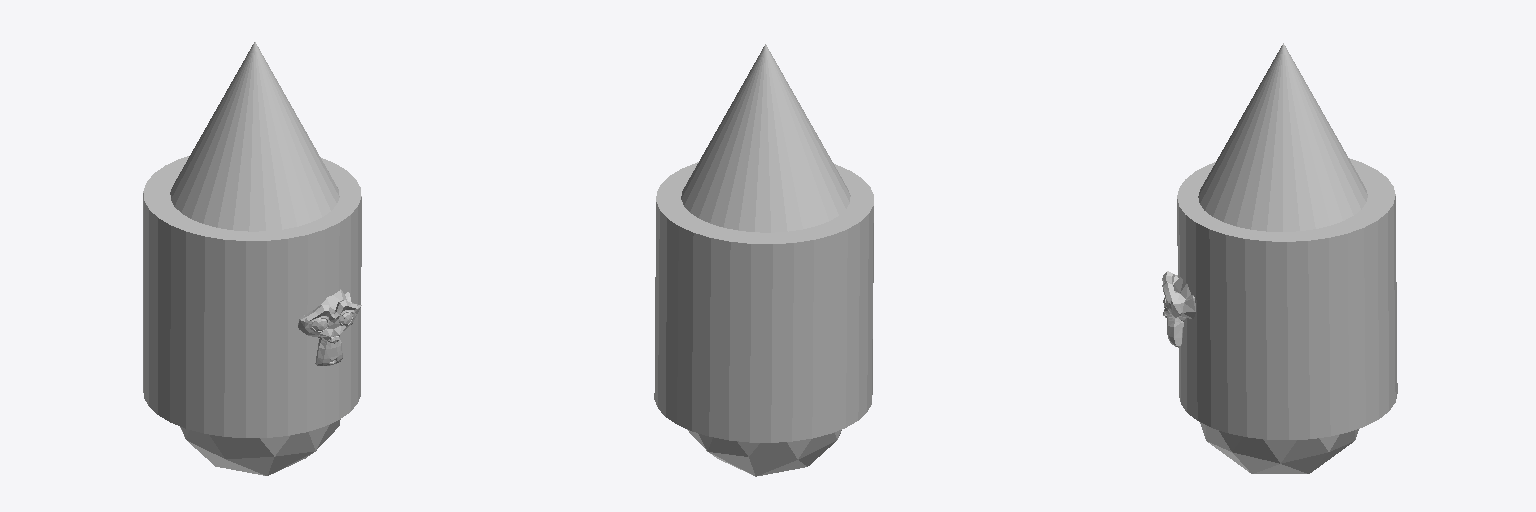
File: loko.obj
The picture shows the model from 3 angles: view 1: azimuth 30°, elevation 25°; view 2: azimuth 150°, elevation 25°; view 3: azimuth 270°, elevation 25°; orthographic projection.
Parts seen in each view (by area): view 1: Cylinder, Cone, Icosphere, Suzanne; view 2: Cylinder, Cone, Icosphere; view 3: Cylinder, Cone, Icosphere, Suzanne.
Part boxes in pixels (left/top/right/bottom): Cylinder: left=143, top=156, right=361, bottom=437; Cone: left=170, top=42, right=339, bottom=231; Icosphere: left=180, top=419, right=340, bottom=475; Suzanne: left=298, top=289, right=361, bottom=365; Cylinder: left=654, top=162, right=873, bottom=442; Cone: left=681, top=44, right=850, bottom=232; Icosphere: left=687, top=429, right=841, bottom=476; Cylinder: left=1177, top=158, right=1397, bottom=439; Cone: left=1198, top=43, right=1367, bottom=231; Icosphere: left=1200, top=422, right=1358, bottom=473; Suzanne: left=1162, top=271, right=1195, bottom=346.
Size of the model in its own units: 2.38 by 5.11 by 2.55.